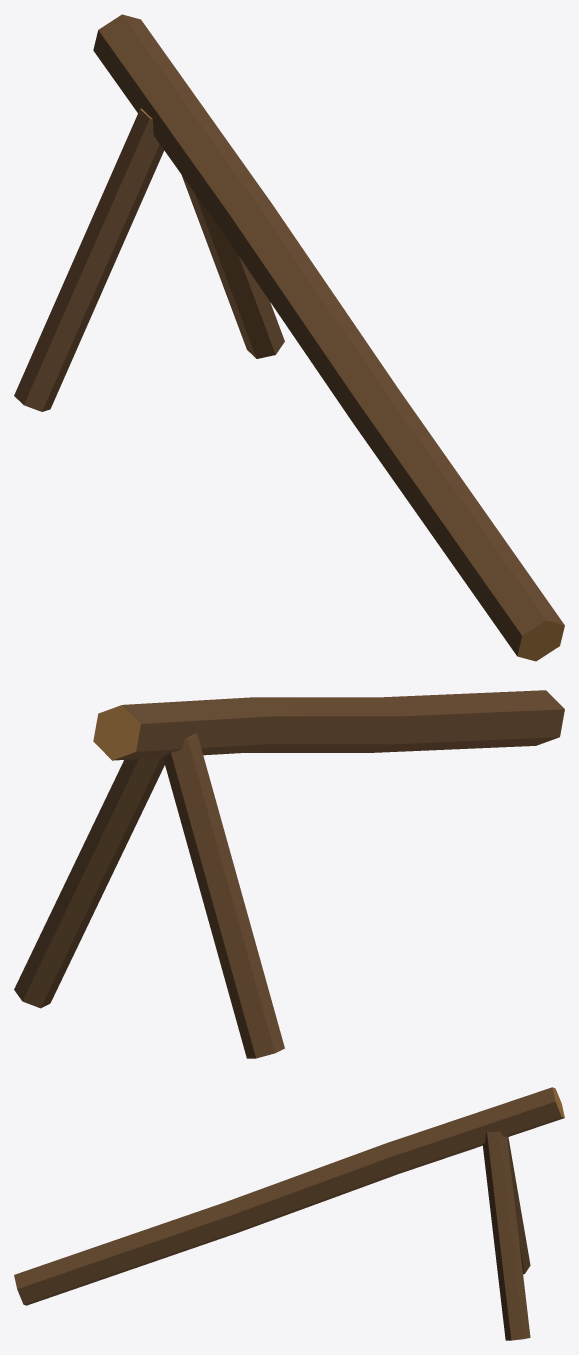
File: ww2_log-ramp.fbx
3 renders of one model, top to bottom at view 1: azimuth 30°, elevation 25°; view 2: azimuth 150°, elevation 25°; view 3: azimuth 270°, elevation 25°, orthographic. The views are drawn at different scales.
Parts seen in each view (by area): view 1: ww2_log_ramp; view 2: ww2_log_ramp; view 3: ww2_log_ramp.
Boxes of the visible parts, <box> form: ww2_log_ramp: <box>14,14,564,661</box>; ww2_log_ramp: <box>14,690,564,1058</box>; ww2_log_ramp: <box>14,1087,564,1340</box>.
Size of the model in its own units: 69.51 by 88.19 by 200.
